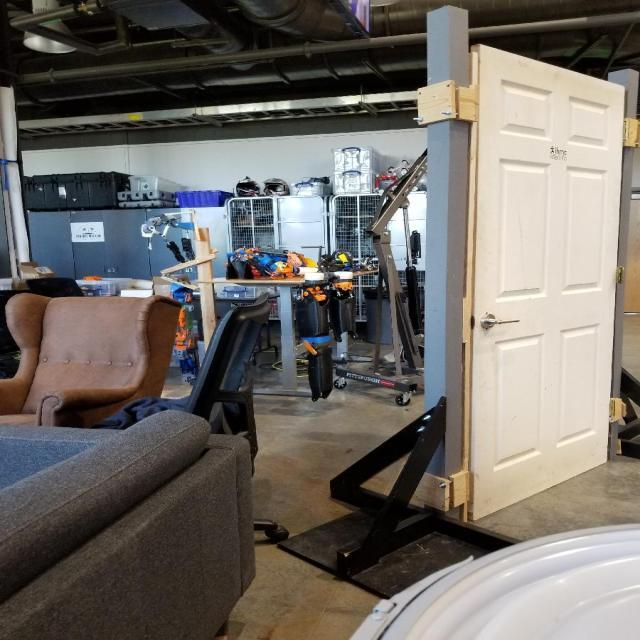door: (464, 44, 628, 524), (474, 312, 524, 334)
